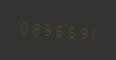eight: (28, 17, 38, 38)
nine: (72, 21, 82, 42)
one: (83, 22, 93, 43)
six: (50, 19, 60, 40), (61, 20, 71, 41)
three: (39, 18, 49, 39)
zero: (17, 16, 27, 37)
